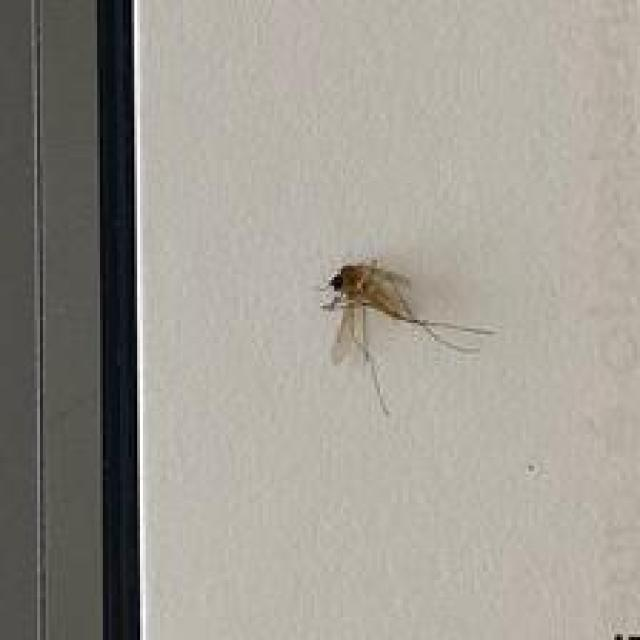Culex: (317, 257, 497, 417)
